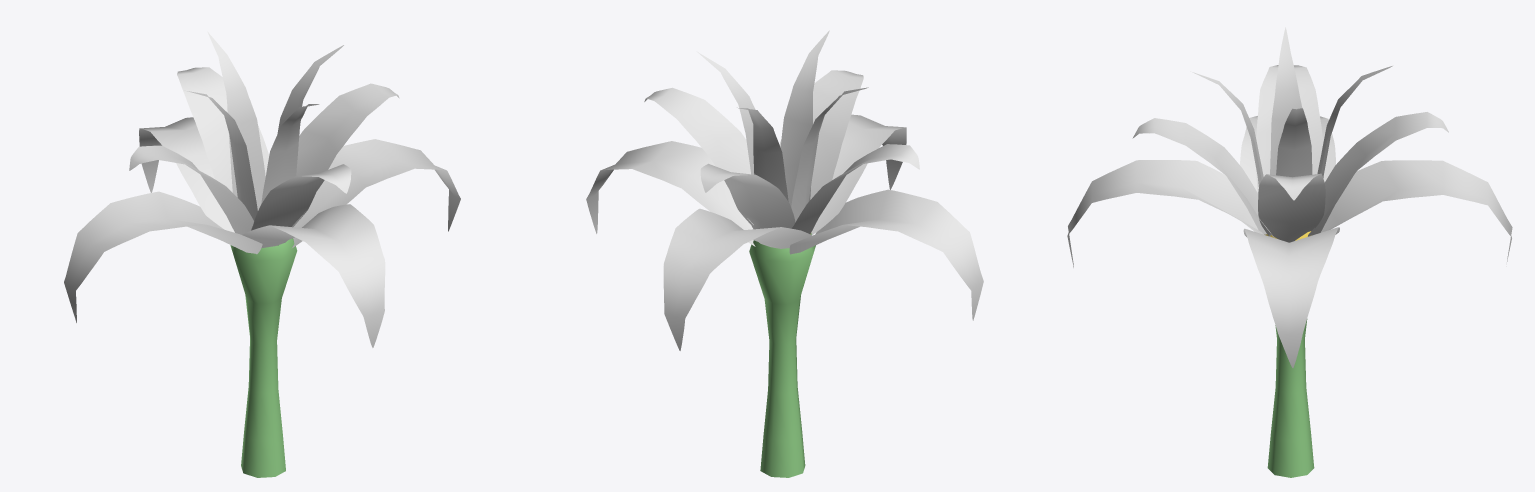
Rendered from FireLily.fbx.
The picture shows the model from 3 angles, left to right: view 1: azimuth 30°, elevation 25°; view 2: azimuth 150°, elevation 25°; view 3: azimuth 270°, elevation 25°; orthographic projection.
Parts seen in each view (by area): view 1: FireLily_Item_LOD0, FireLily_Base_LOD0; view 2: FireLily_Item_LOD0, FireLily_Base_LOD0; view 3: FireLily_Item_LOD0, FireLily_Base_LOD0.
Part boxes in pixels (x1=…): FireLily_Item_LOD0: x1=64, y1=31, x2=460, y2=347; FireLily_Base_LOD0: x1=230, y1=238, x2=297, y2=477; FireLily_Item_LOD0: x1=586, y1=30, x2=983, y2=350; FireLily_Base_LOD0: x1=749, y1=233, x2=815, y2=477; FireLily_Item_LOD0: x1=1067, y1=27, x2=1512, y2=367; FireLily_Base_LOD0: x1=1264, y1=231, x2=1314, y2=477.
Size of what is drawn, in the model's own units: 0.4944 by 0.4864 by 0.4944.
